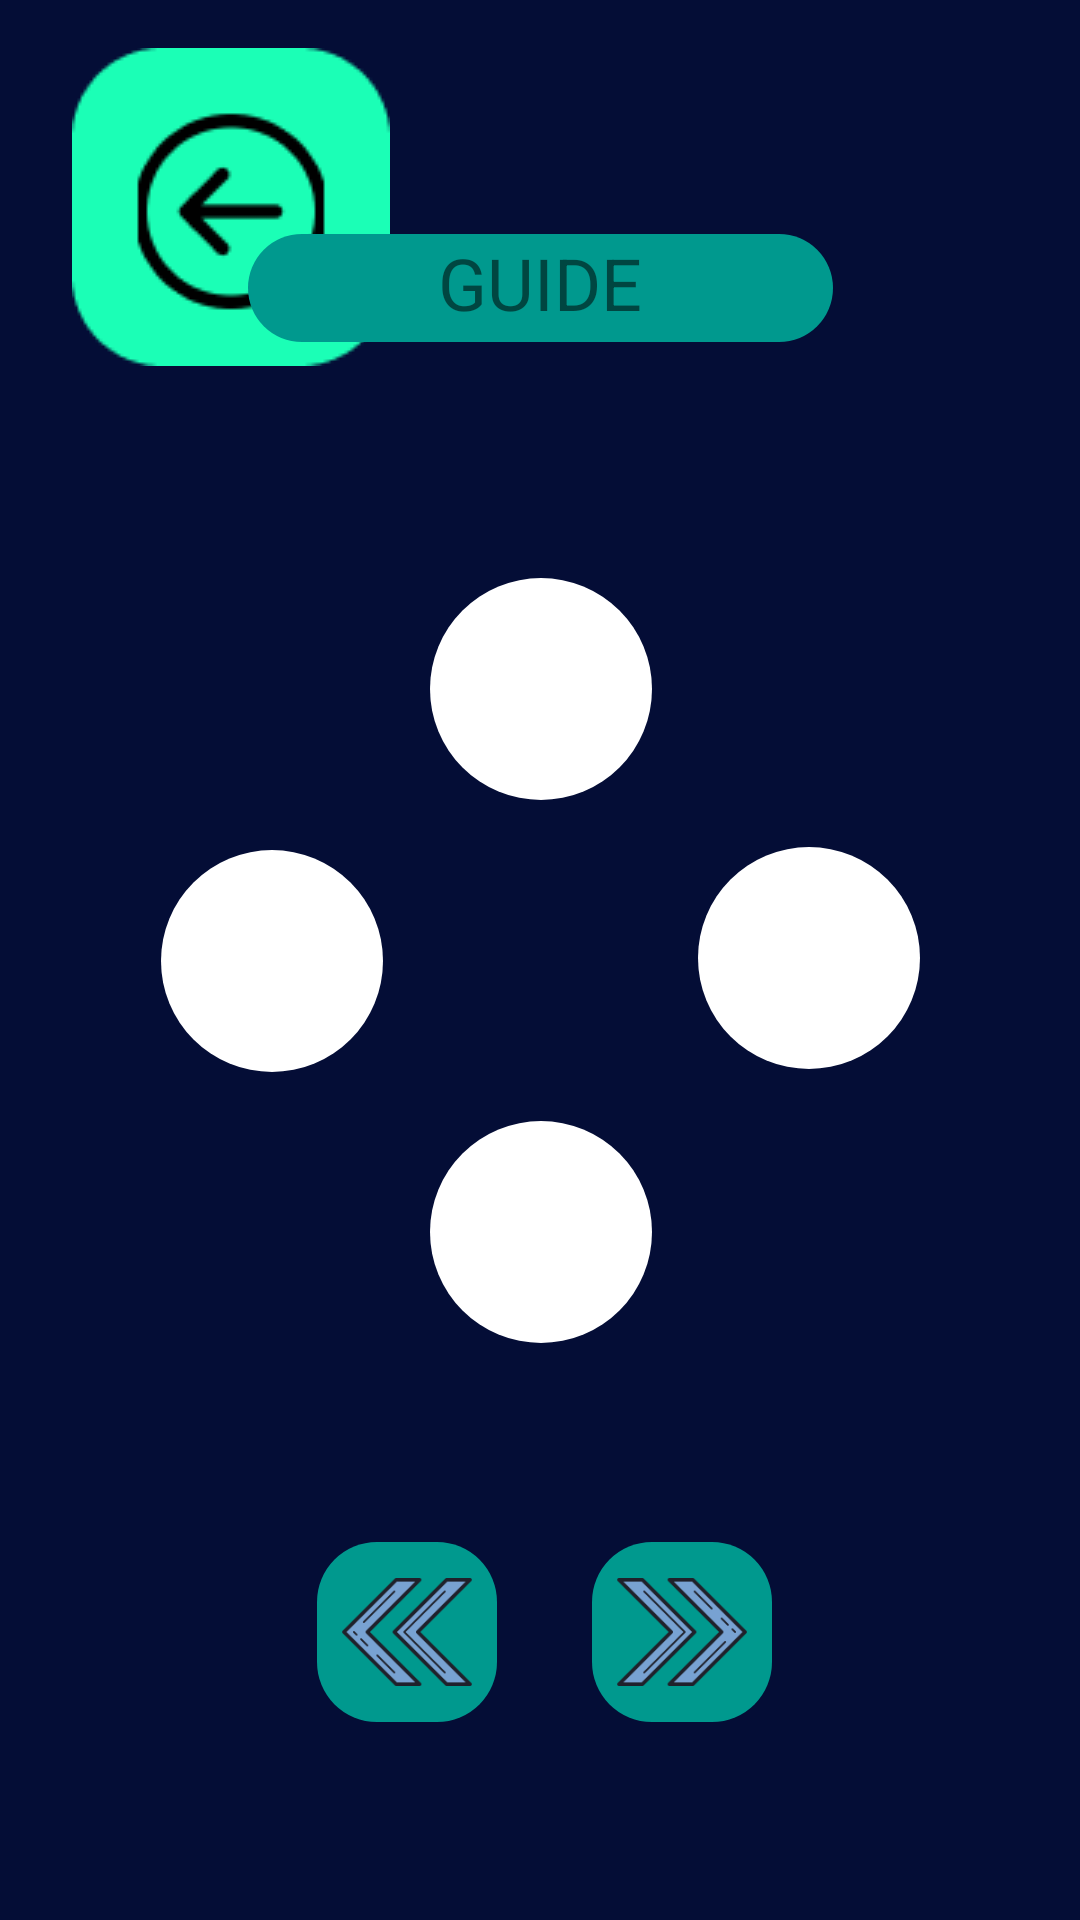

Icon click points for this 1080×1920 phone screenshot, format [x,y]:
back: [231,207]
